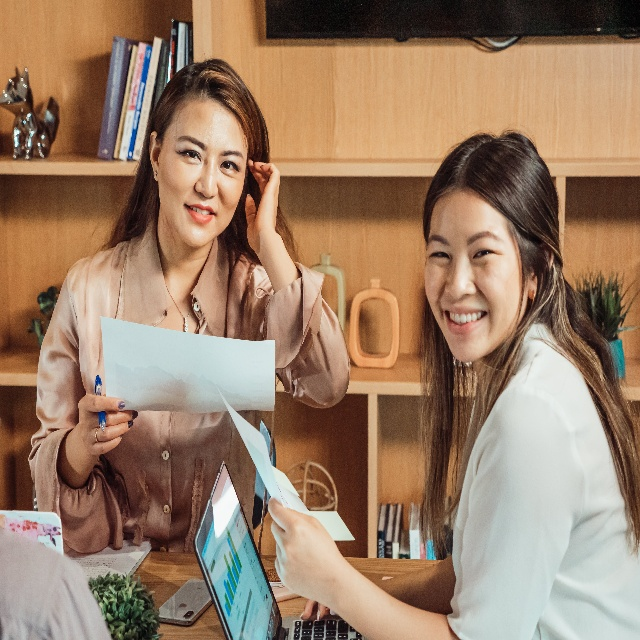Sin_guantes: (266, 495, 334, 607), (76, 387, 139, 457), (244, 157, 281, 253)
